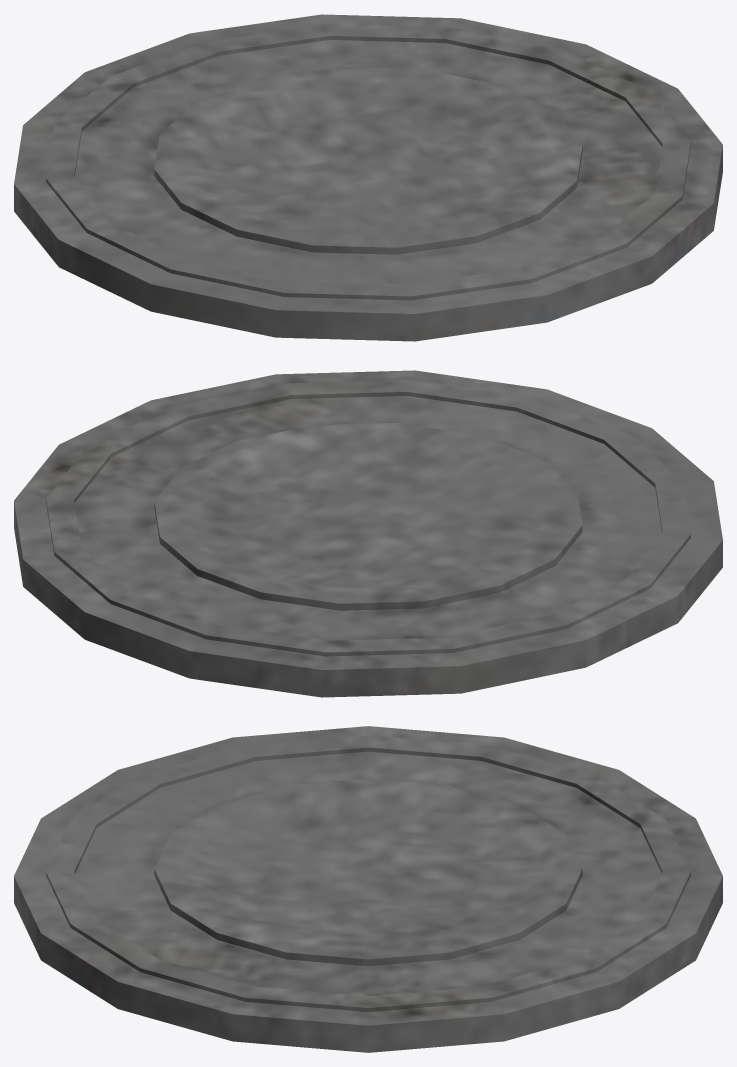
The model's file is manhole_cover.glb.
3 renders of one model, top to bottom at view 1: azimuth 30°, elevation 25°; view 2: azimuth 150°, elevation 25°; view 3: azimuth 270°, elevation 25°, orthographic.
Parts seen in each view (by area): view 1: ManHoleCover; view 2: ManHoleCover; view 3: ManHoleCover.
Part boxes in pixels (x1,y1,x2,y2): ManHoleCover: (14, 14, 722, 341); ManHoleCover: (14, 370, 722, 697); ManHoleCover: (14, 726, 722, 1052).
Bounding box in the file's own units: 1 × 0.0531 × 1.
1 material, 1 textured.
